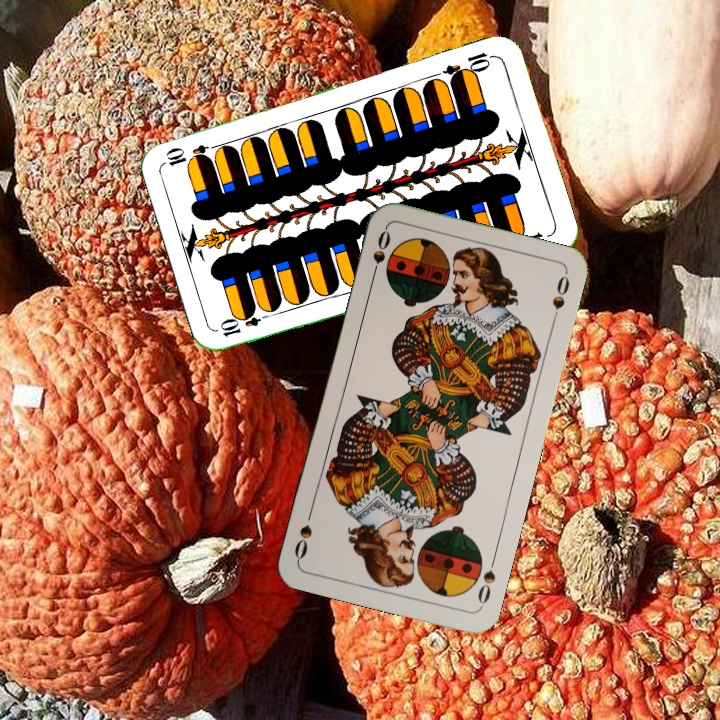E10: (440, 48, 498, 84), (216, 307, 274, 340)
SO: (367, 224, 393, 283), (473, 552, 499, 610)
